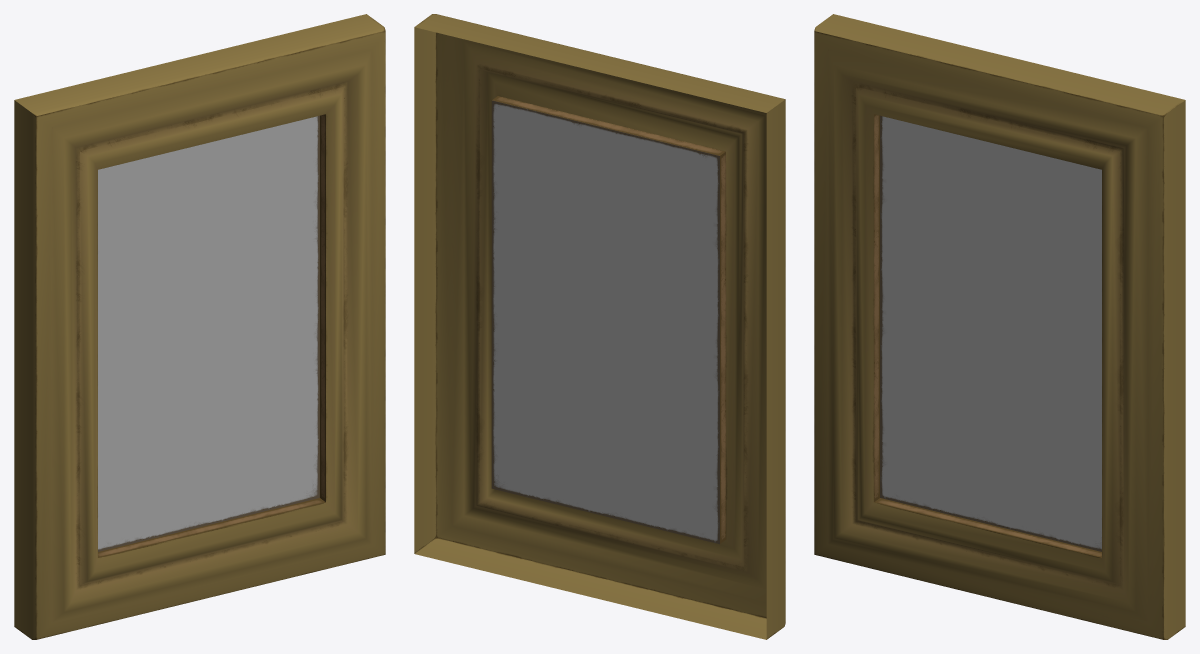
Rendered from 3DArt_Props_PictureFrame_Model_Amanda_V1.fbx.
3 renders of one model, left to right at view 1: azimuth 30°, elevation 25°; view 2: azimuth 150°, elevation 25°; view 3: azimuth 330°, elevation 25°, orthographic.
Parts seen in each view (by area): view 1: Plane015; view 2: Plane015; view 3: Plane015.
Boxes of the visible parts, x1,y1,x2,y2 form: Plane015: (14,14,385,639); Plane015: (414,14,785,639); Plane015: (814,14,1185,639).
Bounding box in the file's own units: 59.33 × 84.78 × 7.19.
